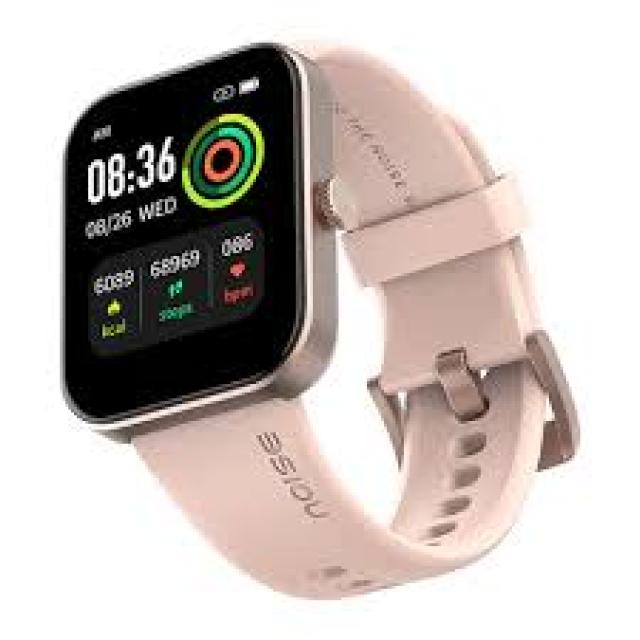objects: (65, 43, 577, 604)
